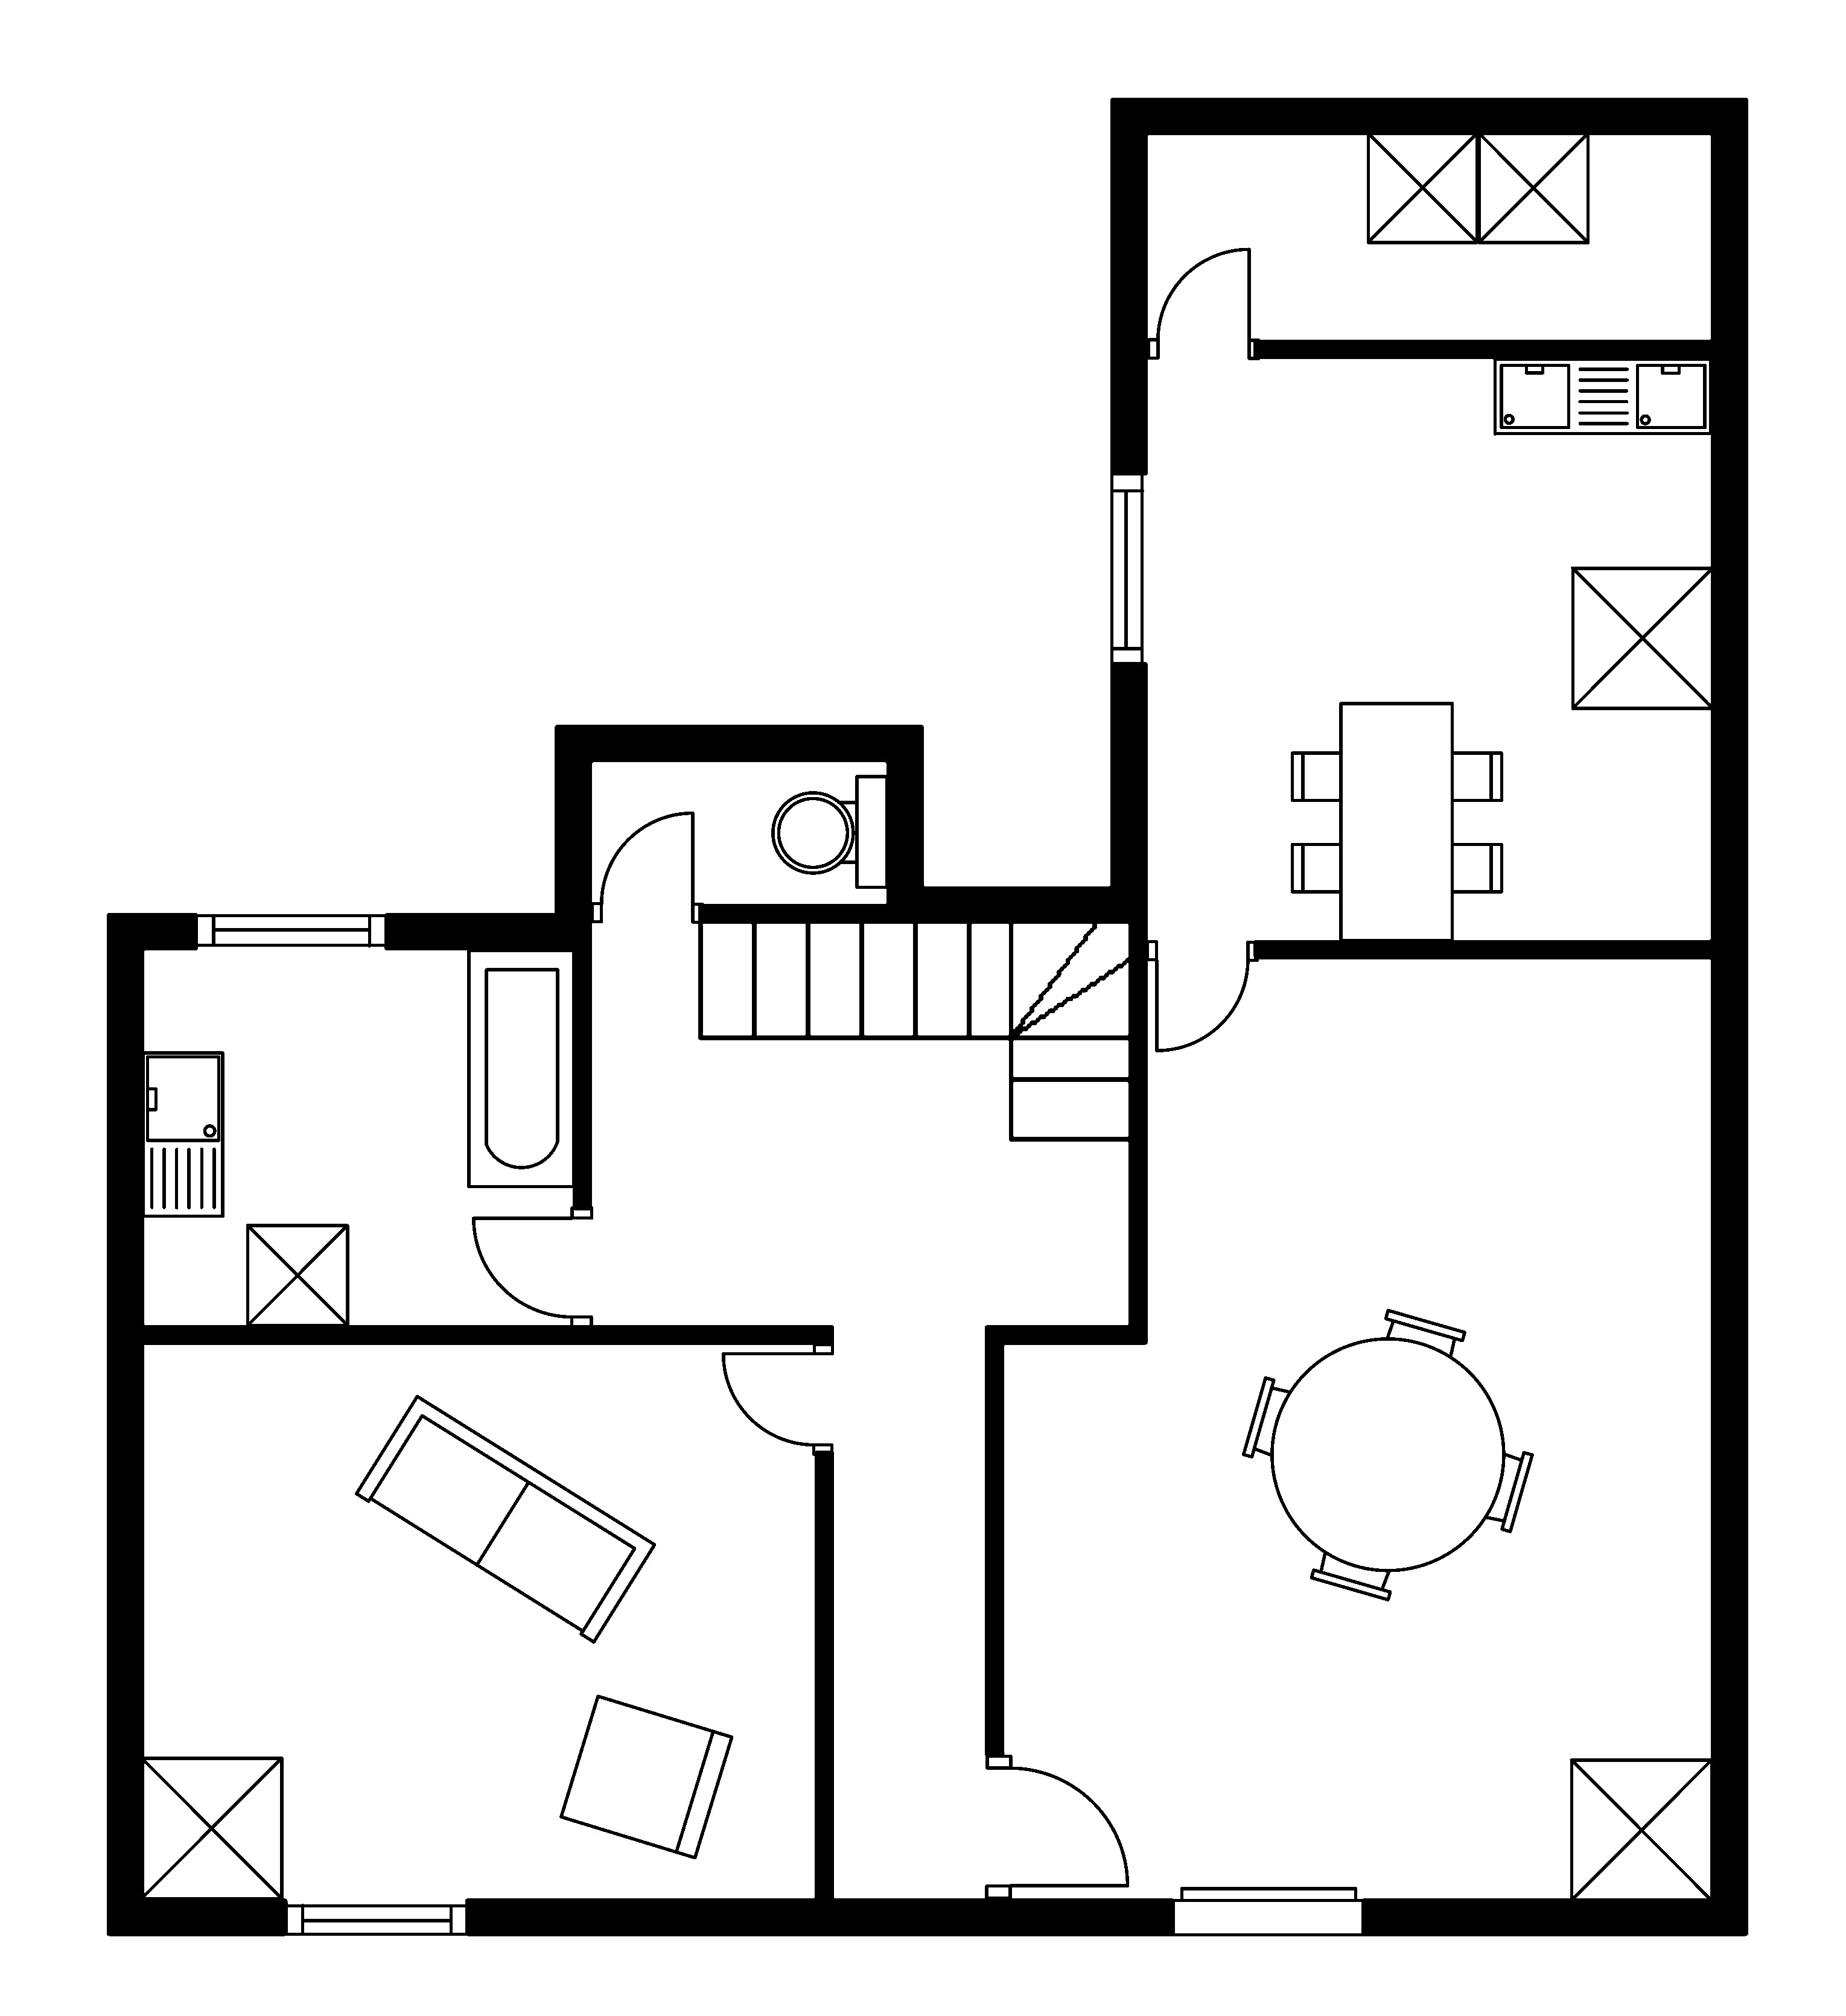coffee_table: (1568, 1756, 1714, 1902), (1568, 565, 1714, 711), (139, 1754, 285, 1900), (1475, 130, 1590, 246), (1365, 130, 1479, 246), (244, 1222, 350, 1328)
dining_table: (1289, 701, 1503, 943)
large_sink: (771, 773, 889, 889)
large_sofa: (353, 1393, 657, 1644)
round_table: (1240, 1307, 1535, 1602)
sink: (141, 1050, 225, 1219)
small_sofa: (557, 1693, 734, 1860)
tub: (465, 947, 576, 1189)
twin_sink: (1491, 356, 1713, 436)
